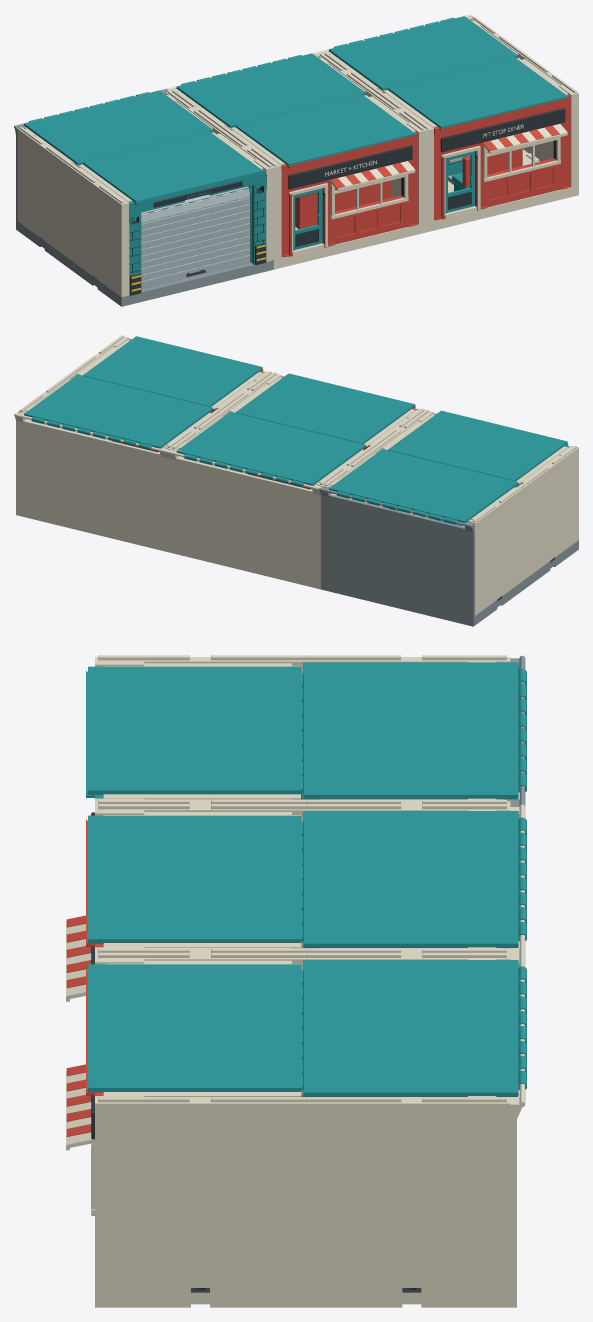
The model's file is garage-simplified-structure.glb.
3 views of the same model, one above another, from view 1: azimuth 30°, elevation 25°; view 2: azimuth 150°, elevation 25°; view 3: azimuth 270°, elevation 25° (orthographic). The views are drawn at different scales.
Parts seen in each view (by area): view 1: Garage_Structural_Module, Kitchen_shop_removable_front, Dining_removable_storefront, Kitchen_roof_rear, Dining_roof_rear, Garage_roof_rear, Kitchen_roof_front, Garage_roof_front, Dining_roof_front, Dining_Structural_Module, Kitchen_Structural_Module, Garage_Removable_Front_Frame (+16 smaller); view 2: Garage_Structural_Module, Dining_Structural_Module, Kitchen_Structural_Module, Garage_roof_rear, Kitchen_roof_rear, Dining_roof_rear, Kitchen_roof_front, Dining_roof_front, Garage_roof_front; view 3: Dining_Structural_Module, Garage_roof_rear, Kitchen_roof_rear, Dining_roof_rear, Garage_roof_front, Dining_roof_front, Kitchen_roof_front, Garage_Structural_Module, Kitchen_Structural_Module, Dining_removable_storefront, Kitchen_shop_removable_front.
Part boxes in pixels (left/top/right/bottom): Garage_Structural_Module: left=14, top=88, right=273, bottom=306; Kitchen_shop_removable_front: left=281, top=132, right=418, bottom=257; Dining_removable_storefront: left=434, top=95, right=570, bottom=220; Kitchen_roof_rear: left=176, top=53, right=365, bottom=127; Dining_roof_rear: left=329, top=16, right=518, bottom=90; Garage_roof_rear: left=24, top=90, right=213, bottom=164; Kitchen_roof_front: left=235, top=94, right=415, bottom=166; Garage_roof_front: left=83, top=131, right=262, bottom=203; Dining_roof_front: left=388, top=57, right=567, bottom=128; Dining_Structural_Module: left=320, top=14, right=578, bottom=232; Kitchen_Structural_Module: left=167, top=51, right=426, bottom=269; Garage_Removable_Front_Frame: left=129, top=169, right=266, bottom=295; Garage_Structural_Module: left=319, top=409, right=578, bottom=626; Dining_Structural_Module: left=14, top=335, right=272, bottom=552; Kitchen_Structural_Module: left=166, top=372, right=425, bottom=589; Garage_roof_rear: left=329, top=449, right=518, bottom=524; Kitchen_roof_rear: left=176, top=411, right=365, bottom=487; Dining_roof_rear: left=24, top=374, right=213, bottom=450; Kitchen_roof_front: left=235, top=373, right=415, bottom=443; Dining_roof_front: left=83, top=336, right=262, bottom=406; Garage_roof_front: left=388, top=410, right=567, bottom=481; Dining_Structural_Module: left=95, top=952, right=525, bottom=1307; Garage_roof_rear: left=303, top=662, right=526, bottom=799; Kitchen_roof_rear: left=303, top=811, right=526, bottom=947; Dining_roof_rear: left=303, top=960, right=526, bottom=1096; Garage_roof_front: left=88, top=666, right=303, bottom=794; Dining_roof_front: left=88, top=964, right=303, bottom=1092; Kitchen_roof_front: left=88, top=815, right=303, bottom=943; Garage_Structural_Module: left=95, top=655, right=525, bottom=806; Kitchen_Structural_Module: left=95, top=804, right=525, bottom=955; Dining_removable_storefront: left=66, top=968, right=103, bottom=1215; Kitchen_shop_removable_front: left=66, top=819, right=103, bottom=1001.
Size of the model in its own units: 6 by 1.3 by 2.62.
